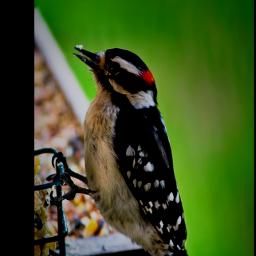Woodpecker: (46, 45, 198, 256)
